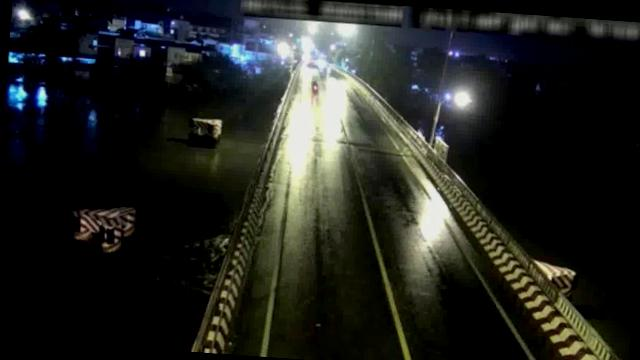Bike: (310, 80, 319, 97)
